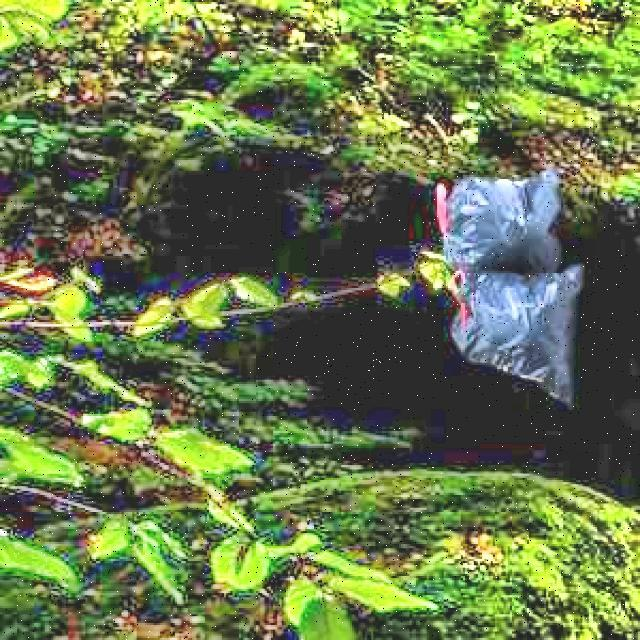Trashbag: (447, 258, 596, 412), (440, 162, 570, 274)
